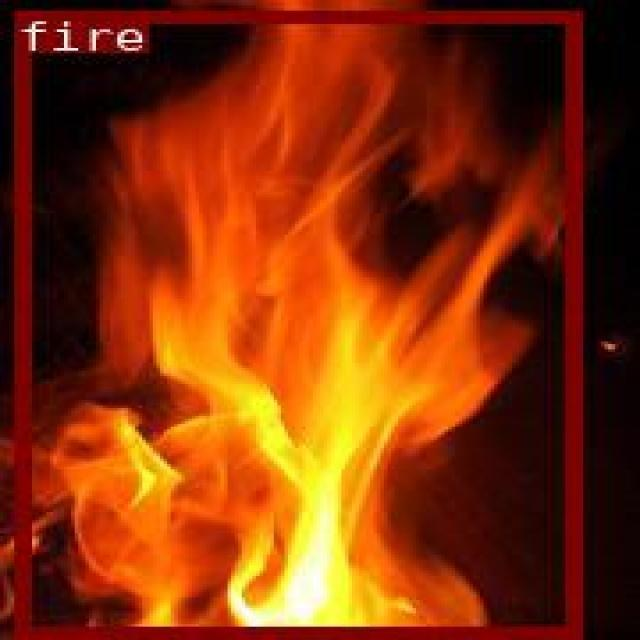fire: (11, 9, 576, 635)
